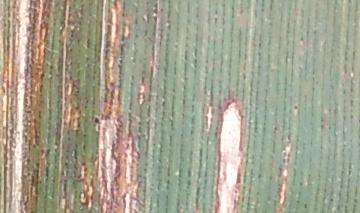tarspot: (92, 113, 101, 127), (292, 101, 300, 115), (272, 123, 280, 135)
